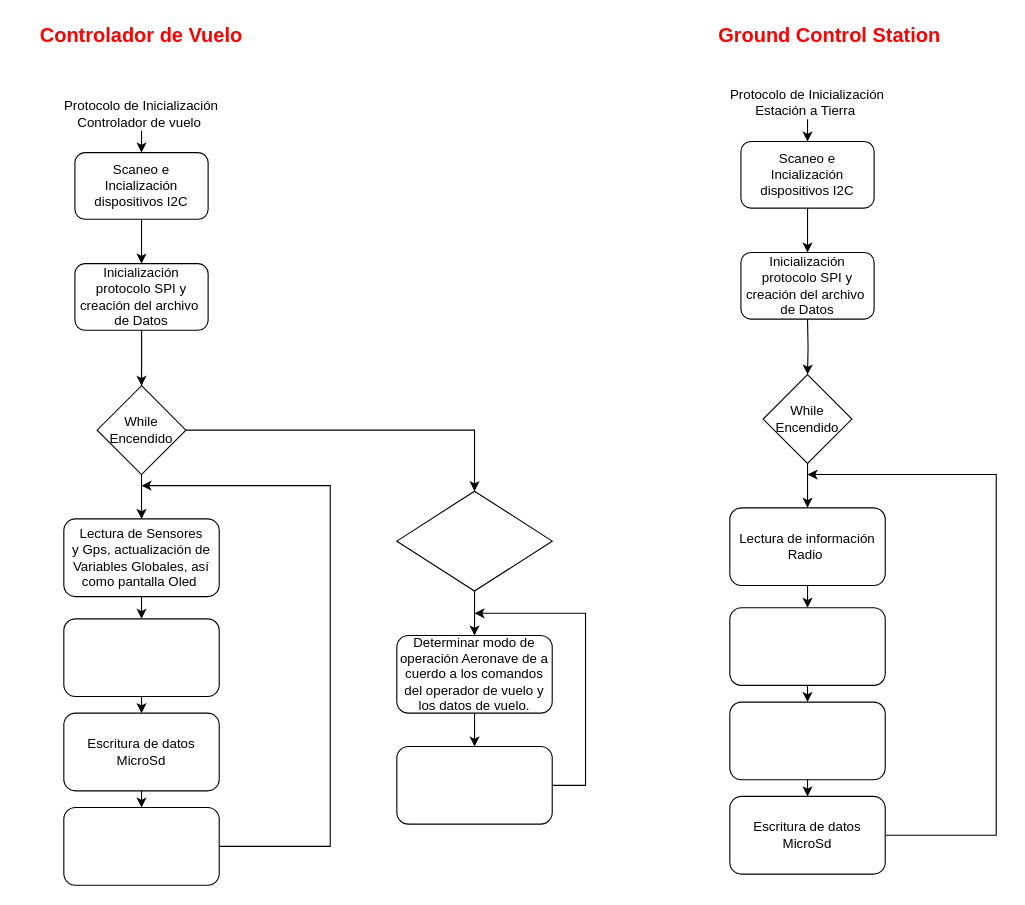
This 1025x905 diagram has some shape labels left out. Here are the shapes that lost their labels. From the top down, the box of each, then its label:
(396, 490, 552, 591): Task de Escritura y movimiento Actuadores
(63, 618, 219, 697): Lectura de Canales receptor
(729, 607, 885, 685): Decodificación de la Información
(729, 701, 885, 780): Escritura datos serial
(396, 745, 552, 824): Mover Actuadores
(63, 806, 219, 885): Envio de Datos comprimidos 32 Bits (telemetria)
